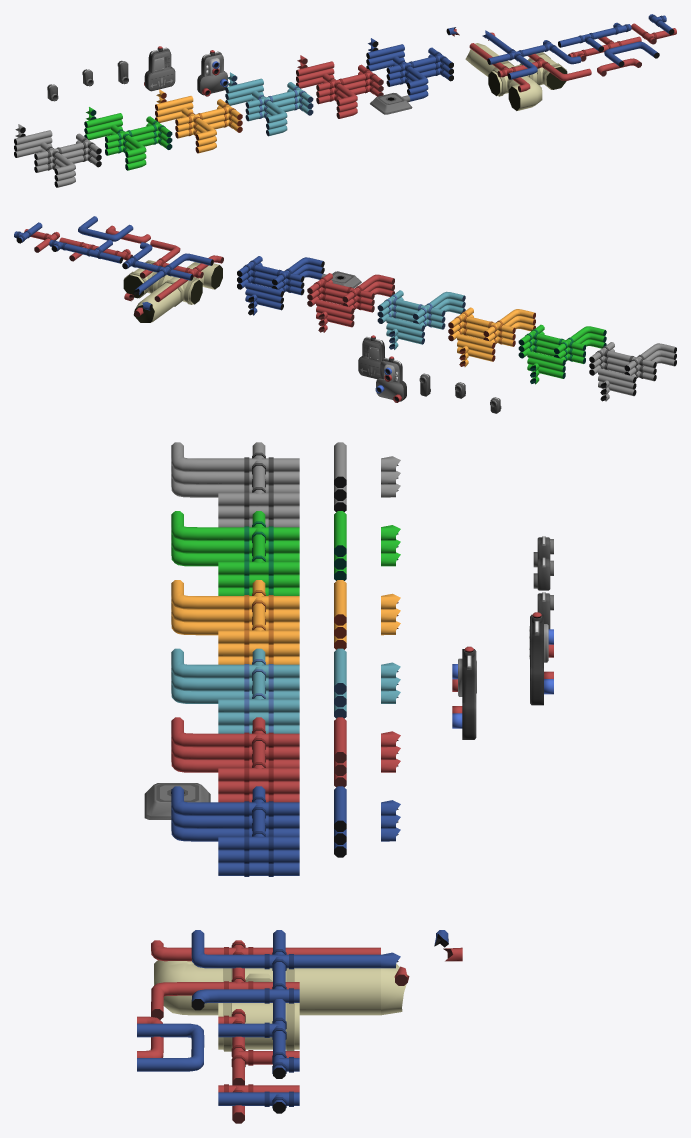
The model's file is pipes.fbx.
3 views of the same model, one above another, from view 1: azimuth 30°, elevation 25°; view 2: azimuth 150°, elevation 25°; view 3: azimuth 270°, elevation 25° (orthographic). The views are drawn at different scales.
Visible parts, largest first — view 1: Layer Converter Sub-Top E / S, Layer Converter Sub-Top N / W, Disposal L, ConnectorPort, Disposal T, Disposal X, Disposal I, Layer2 Blue X.001, Layer2 White X.001, Layer2 Yellow X.001, Sub-Level Blue T NEW, Layer2 Red X.001 (+20 smaller); view 2: Layer Converter Sub-Top E / S, Layer Converter Sub-Top N / W, Disposal X, Disposal T, Disposal L, Disposal I, Layer2 Yellow X.001, Layer2 Blue X.001, Layer2 White X.001, Layer2 Red X.001, Layer1 Cyan X.002, Layer2 Green X.001 (+7 smaller); view 3: Disposal I, Disposal T, Disposal L, Layer Converter Sub-Top N / W, Layer Converter Sub-Top E / S, Layer2 Red X.001, Layer1 Cyan X.002, Sub-Level Blue X, ConnectorPort, Layer2 Green X.001, Layer2 Blue X.001, Layer2 White X.001 (+21 smaller).
Boxes of the visible parts, x1=… form: Layer Converter Sub-Top E / S: x1=144, y1=46, x2=175, y2=91; Layer Converter Sub-Top N / W: x1=197, y1=50, x2=228, y2=96; Disposal L: x1=508, y1=76, x2=542, y2=110; ConnectorPort: x1=370, y1=93, x2=412, y2=114; Disposal T: x1=528, y1=52, x2=567, y2=89; Disposal X: x1=488, y1=60, x2=535, y2=96; Disposal I: x1=471, y1=45, x2=498, y2=76; Layer2 Blue X.001: x1=386, y1=56, x2=425, y2=75; Layer2 White X.001: x1=34, y1=142, x2=72, y2=161; Layer2 Yellow X.001: x1=175, y1=107, x2=213, y2=127; Sub-Level Blue T NEW: x1=558, y1=32, x2=603, y2=52; Layer2 Red X.001: x1=316, y1=73, x2=354, y2=92; Layer Converter Sub-Top E / S: x1=375, y1=356, x2=406, y2=402; Layer Converter Sub-Top N / W: x1=358, y1=335, x2=384, y2=378; Disposal X: x1=155, y1=275, x2=202, y2=306; Disposal T: x1=123, y1=260, x2=157, y2=298; Disposal L: x1=186, y1=262, x2=222, y2=289; Disposal I: x1=145, y1=283, x2=179, y2=319; Layer2 Yellow X.001: x1=477, y1=316, x2=515, y2=336; Layer2 Blue X.001: x1=265, y1=264, x2=304, y2=285; Layer2 White X.001: x1=618, y1=350, x2=656, y2=371; Layer2 Red X.001: x1=336, y1=281, x2=374, y2=302; Layer1 Cyan X.002: x1=406, y1=299, x2=445, y2=319; Layer2 Green X.001: x1=547, y1=333, x2=585, y2=354; Disposal I: x1=299, y1=968, x2=380, y2=1015; Disposal T: x1=218, y1=1003, x2=299, y2=1051; Disposal L: x1=154, y1=960, x2=218, y2=1015; Layer Converter Sub-Top N / W: x1=452, y1=646, x2=476, y2=739; Layer Converter Sub-Top E / S: x1=529, y1=612, x2=553, y2=705; Layer2 Red X.001: x1=218, y1=717, x2=299, y2=754; Layer1 Cyan X.002: x1=218, y1=648, x2=299, y2=685; Sub-Level Blue X: x1=218, y1=930, x2=299, y2=970; ConnectorPort: x1=144, y1=783, x2=210, y2=819; Layer2 Green X.001: x1=218, y1=511, x2=299, y2=548; Layer2 Blue X.001: x1=218, y1=786, x2=299, y2=823; Layer2 White X.001: x1=218, y1=442, x2=299, y2=479.
Size of the model in its own units: 18 by 1.69 by 5.13.
